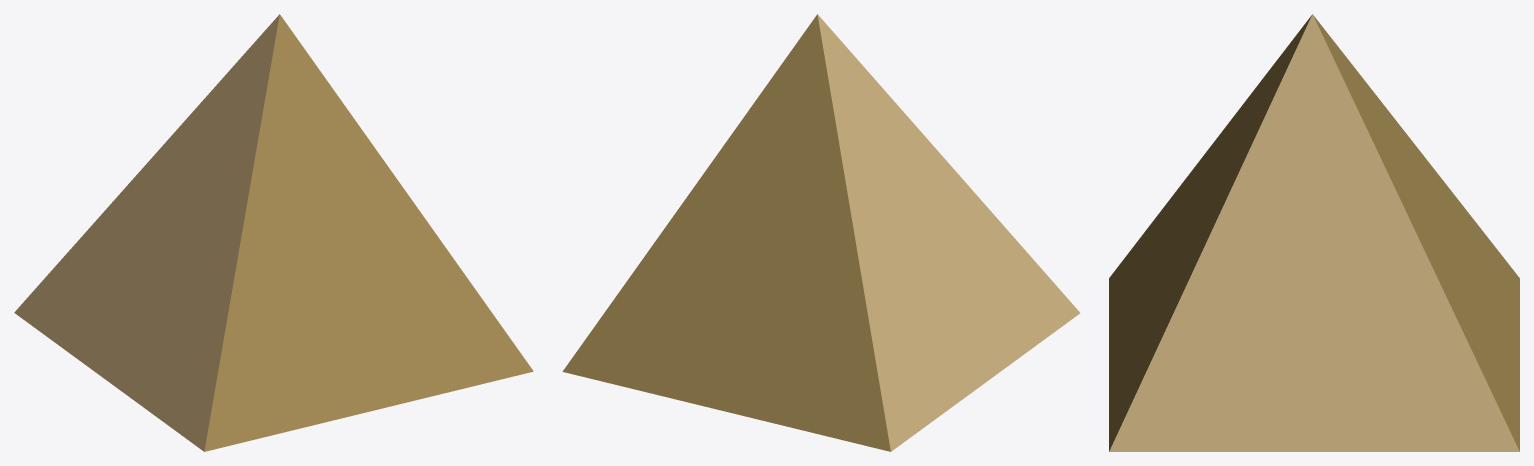
3 views of the same model, side by side, from view 1: azimuth 30°, elevation 25°; view 2: azimuth 150°, elevation 25°; view 3: azimuth 270°, elevation 25° (orthographic). The views are drawn at different scales.
Visible parts, largest first — view 1: node_e555f1cd_5e73_479b_9879_71246fa98872_mesh0, node_4fbbee59_02b5_450b_aa53_a184324bc6f9_mesh0; view 2: node_58eb2663_bf89_45de_bf25_31d547d621a2_mesh0, node_4fbbee59_02b5_450b_aa53_a184324bc6f9_mesh0; view 3: node_331350bc_ed45_4140_97a0_ab70138584a6_mesh0, node_58eb2663_bf89_45de_bf25_31d547d621a2_mesh0, node_e555f1cd_5e73_479b_9879_71246fa98872_mesh0.
Boxes of the visible parts, x1,y1,x2,y2 form: node_e555f1cd_5e73_479b_9879_71246fa98872_mesh0: (204, 14, 533, 451); node_4fbbee59_02b5_450b_aa53_a184324bc6f9_mesh0: (14, 14, 279, 451); node_58eb2663_bf89_45de_bf25_31d547d621a2_mesh0: (562, 14, 890, 451); node_4fbbee59_02b5_450b_aa53_a184324bc6f9_mesh0: (817, 14, 1080, 451); node_331350bc_ed45_4140_97a0_ab70138584a6_mesh0: (1109, 14, 1519, 451); node_58eb2663_bf89_45de_bf25_31d547d621a2_mesh0: (1313, 15, 1519, 451); node_e555f1cd_5e73_479b_9879_71246fa98872_mesh0: (1109, 14, 1312, 451).
Size of the model in its own units: 787 by 787 by 748.
